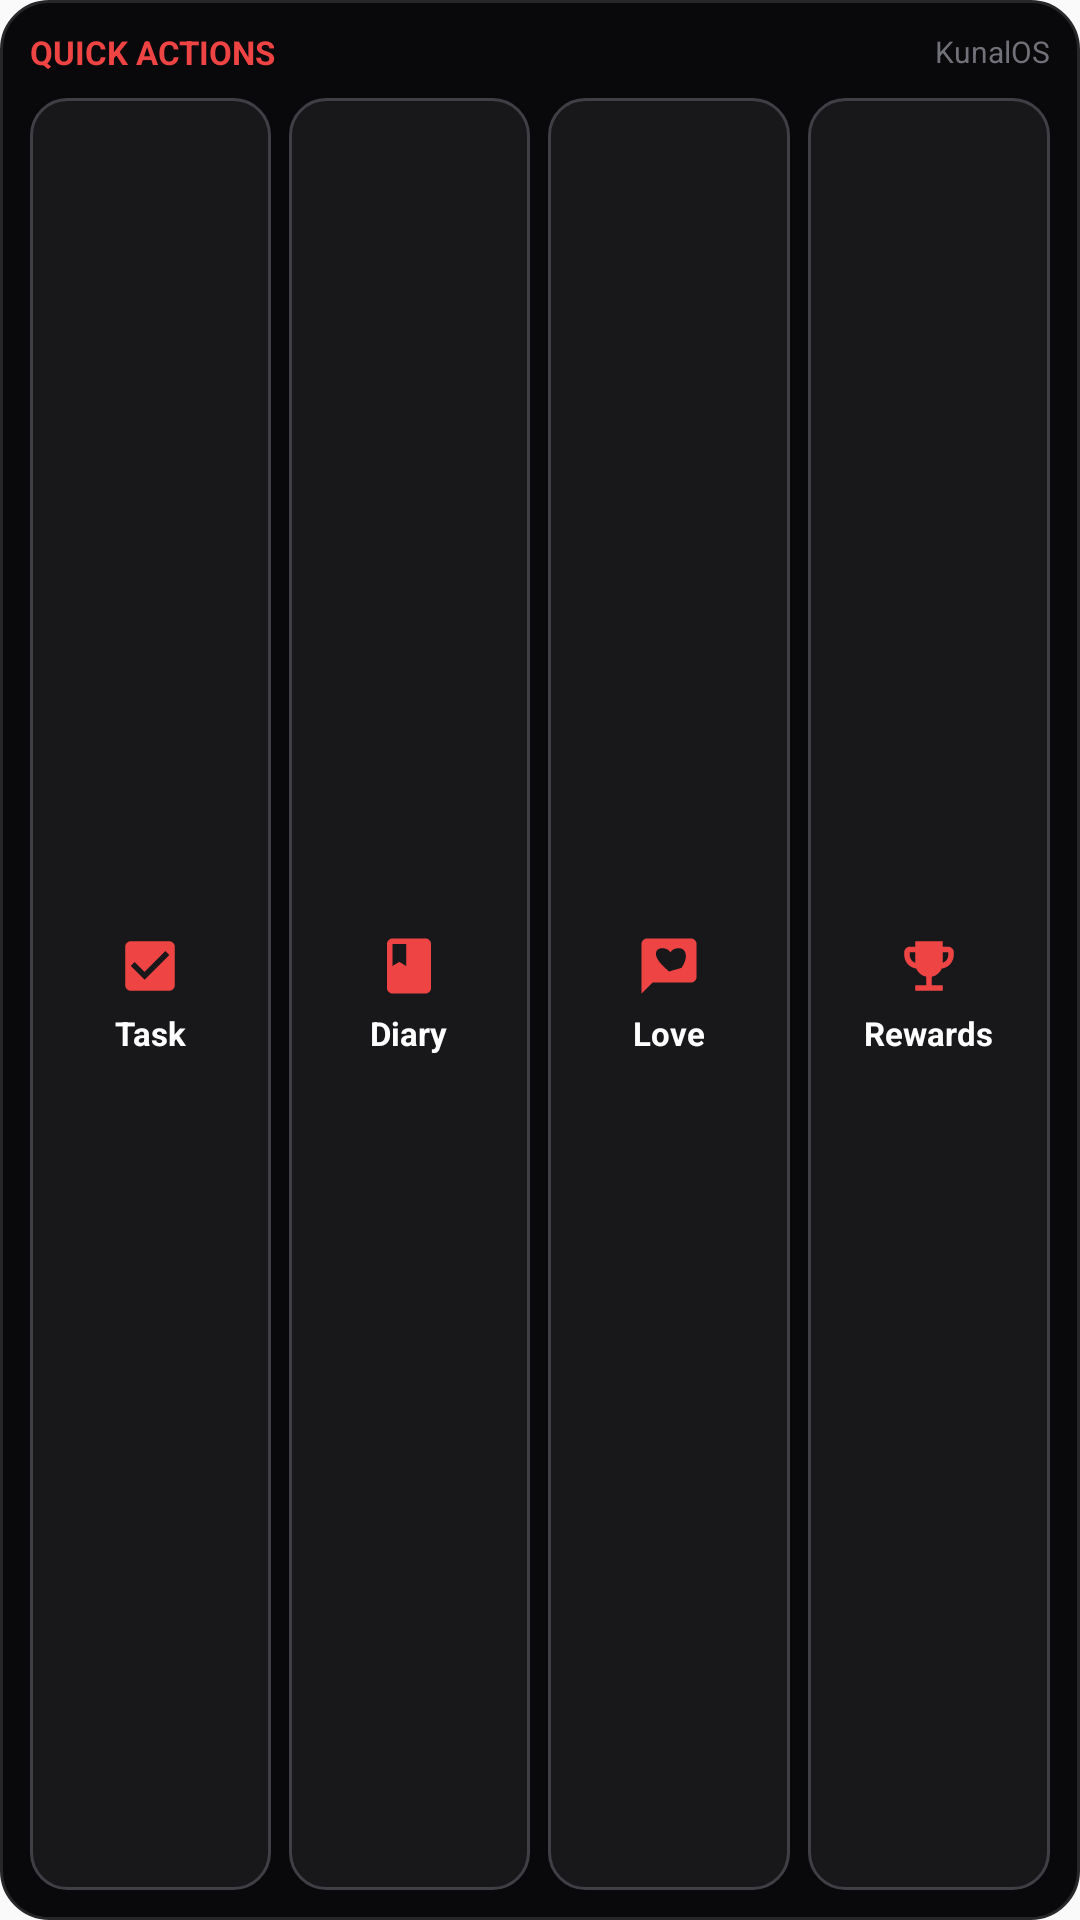

Icons on this 1080 x 1920 Android screen, each with the point to tap as (x,y):
Message: (669,966)
